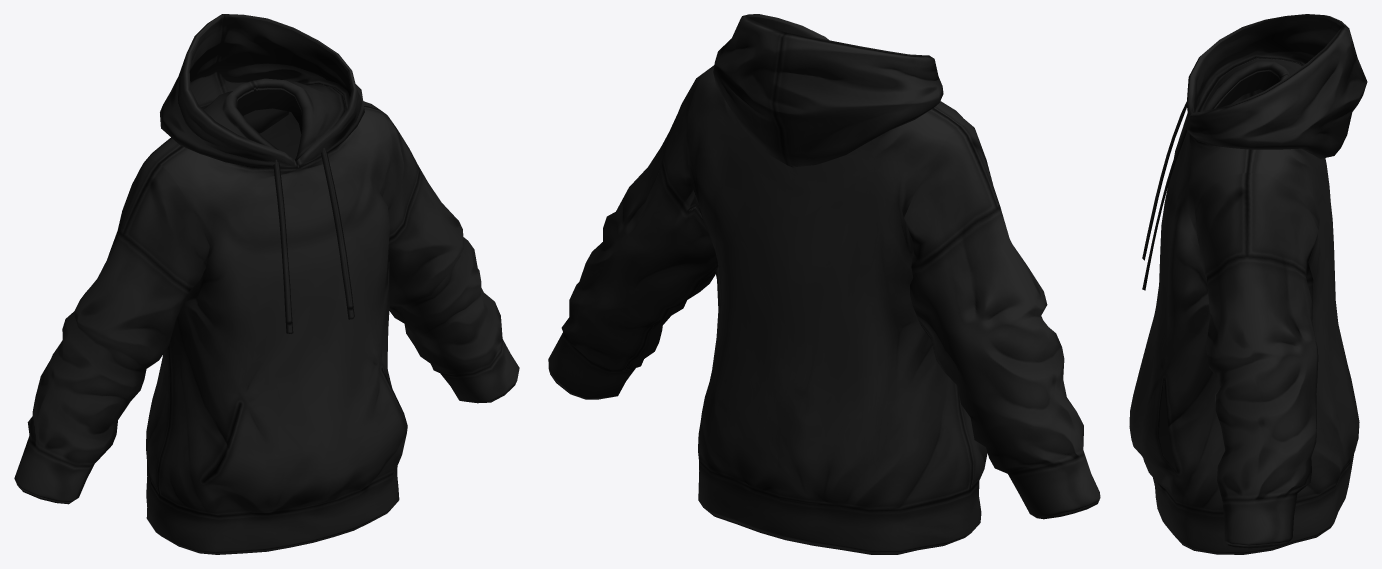
File: hoodie-a.glb
3 renders of one model, left to right at view 1: azimuth 30°, elevation 25°; view 2: azimuth 150°, elevation 25°; view 3: azimuth 270°, elevation 25°, orthographic. The views are drawn at different scales.
Visible parts, largest first — view 1: Body.014; view 2: Body.014; view 3: Body.014.
Boxes of the visible parts, x1,y1,x2,y2 form: Body.014: (14, 14, 519, 554); Body.014: (548, 14, 1100, 554); Body.014: (1129, 14, 1367, 554).
Size of the model in its own units: 0.9605 by 0.867 by 0.3915.
1 material, 1 textured.
